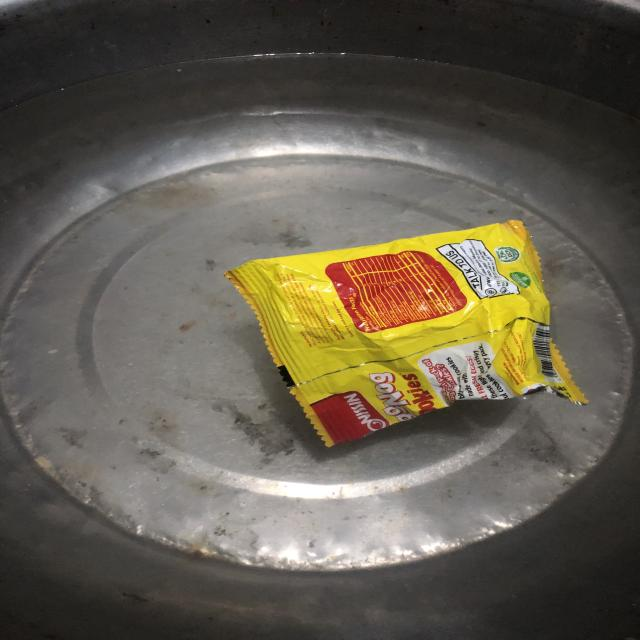Plastic Wrapper: (199, 194, 620, 464)
